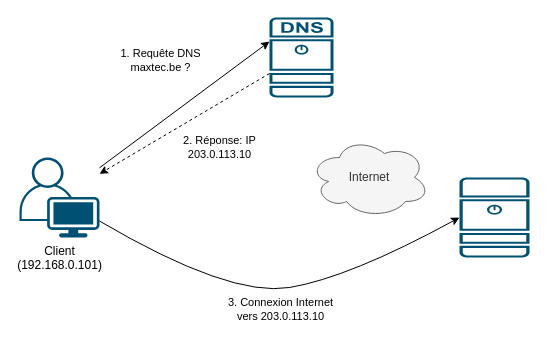
Image size: 554x339. Some labels were removed from this diagram. Each missing label, with the centre of its shape:
DNS Externe (8.8.8.8): point (301, 57)
maxtec.be Site Web Public (203.0.113.10): point (494, 217)
